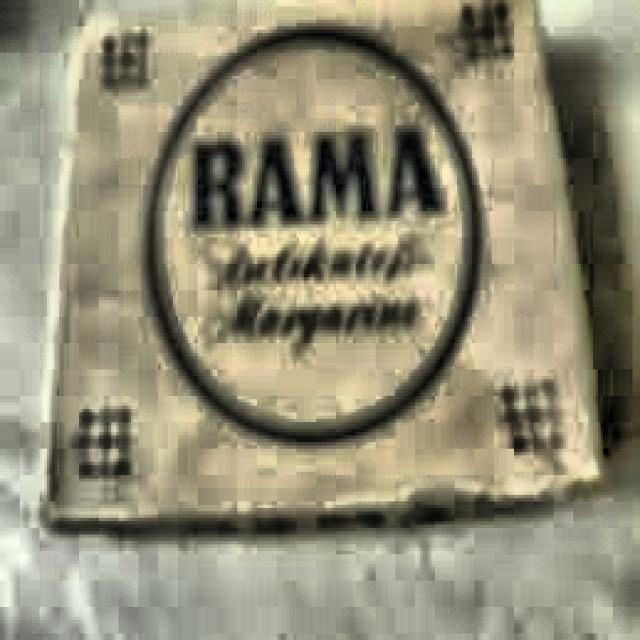cardboard: (39, 0, 610, 531)
